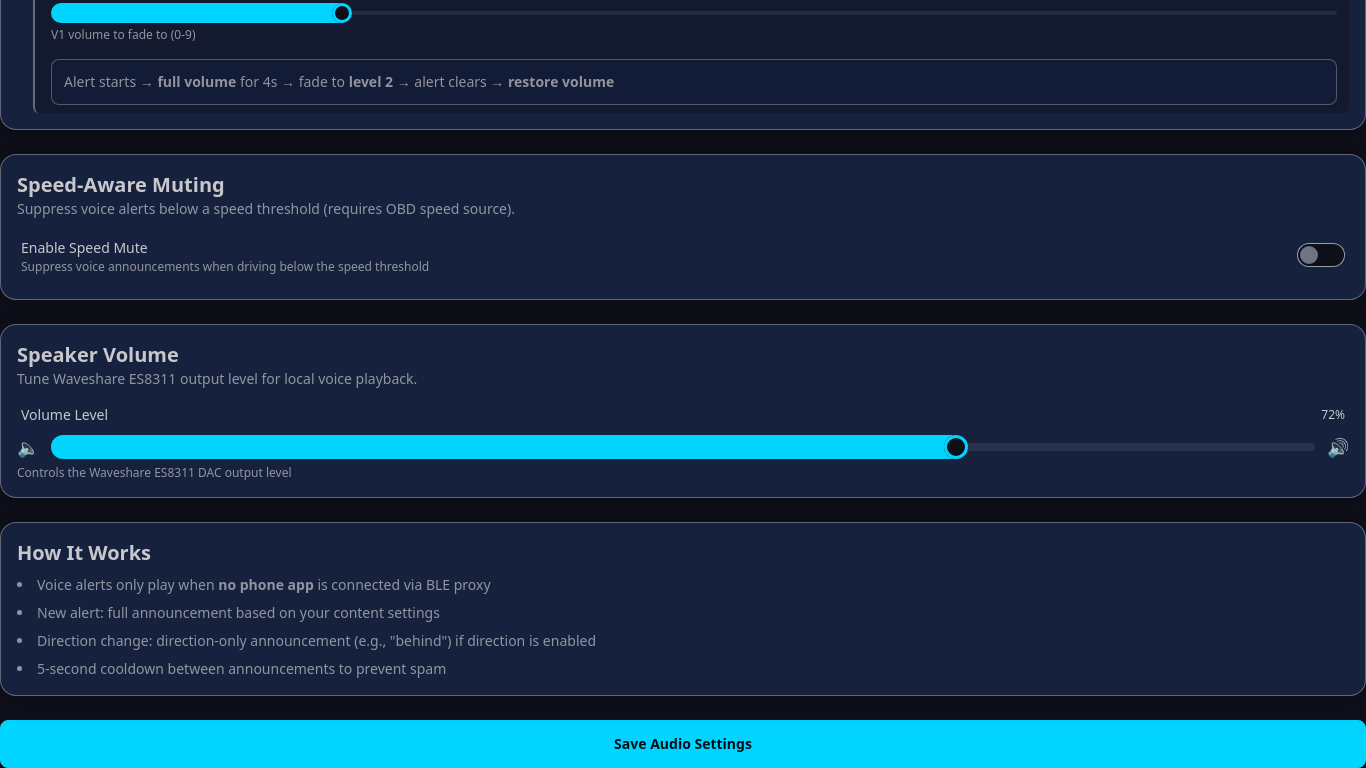
Scenario: audio route page › posts audio settings and shows success feedback on save
The width and height of the screenshot is (1366, 768).
(page scrolled)
Click the button "Save Audio Settings": (683, 744) top-left (0, 720), bottom-right (1365, 767)
(page scrolled)
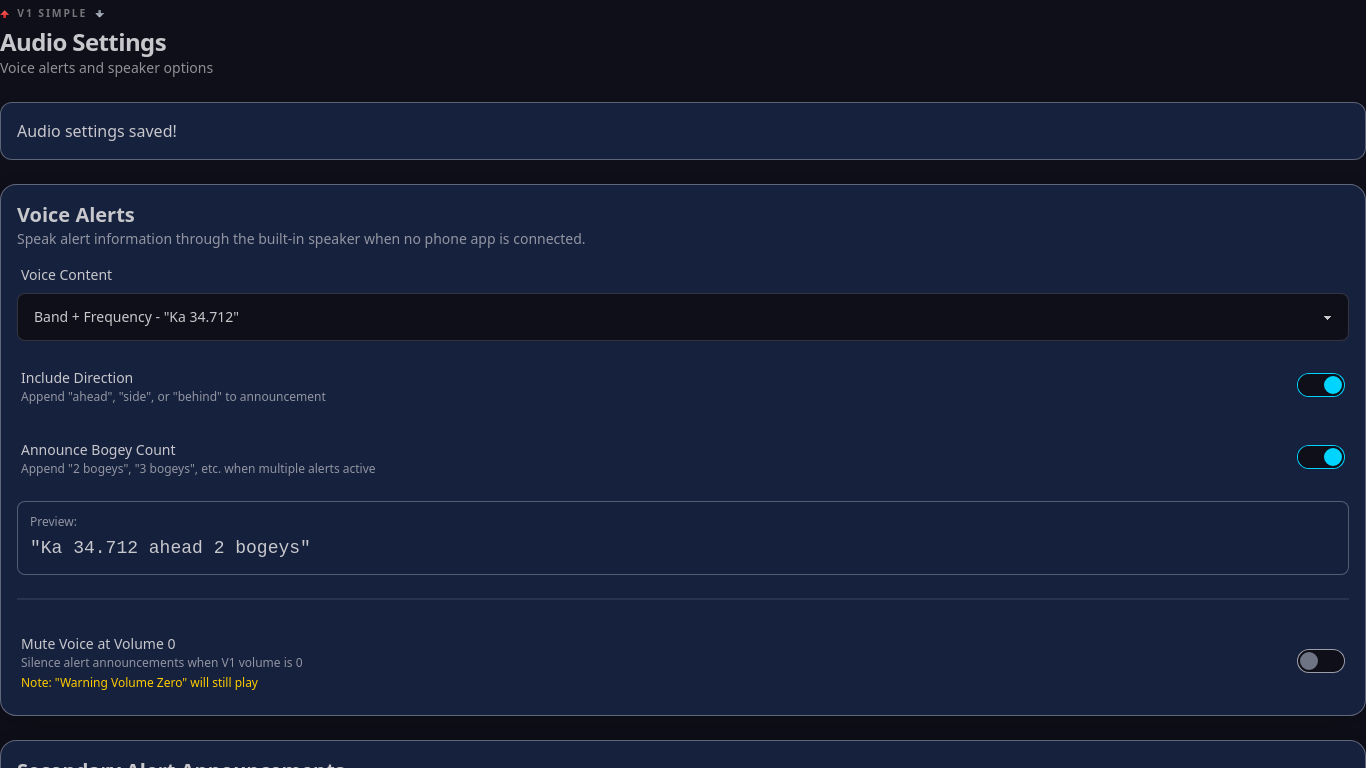
Check: the text "Audio settings saved!" is shown, box top-left (17, 119), bottom-right (177, 143)
